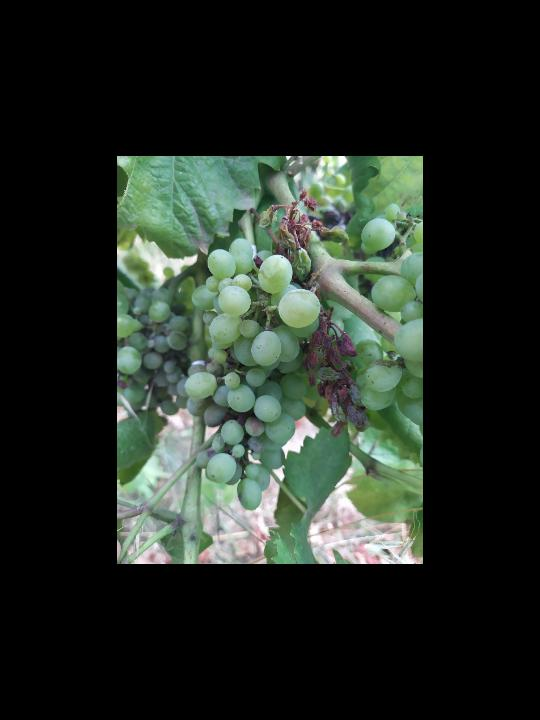grape: (183, 234, 367, 513)
